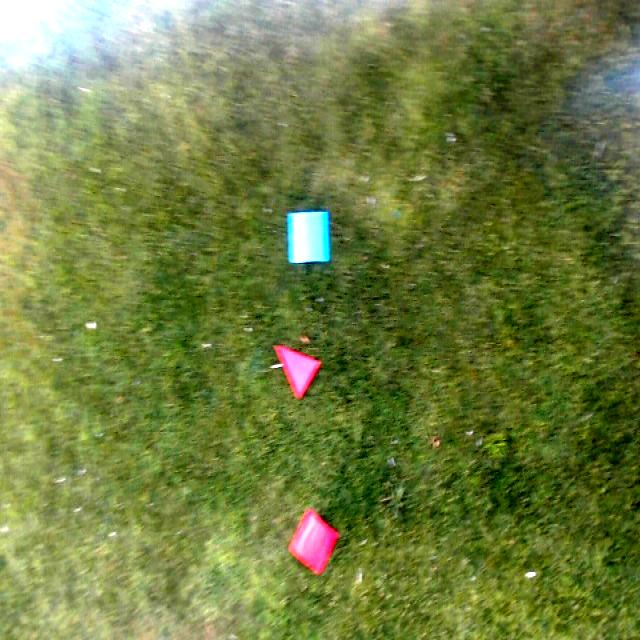blue_square: (287, 211, 331, 262)
red_square: (288, 509, 339, 575)
red_triangle: (272, 342, 323, 400)
